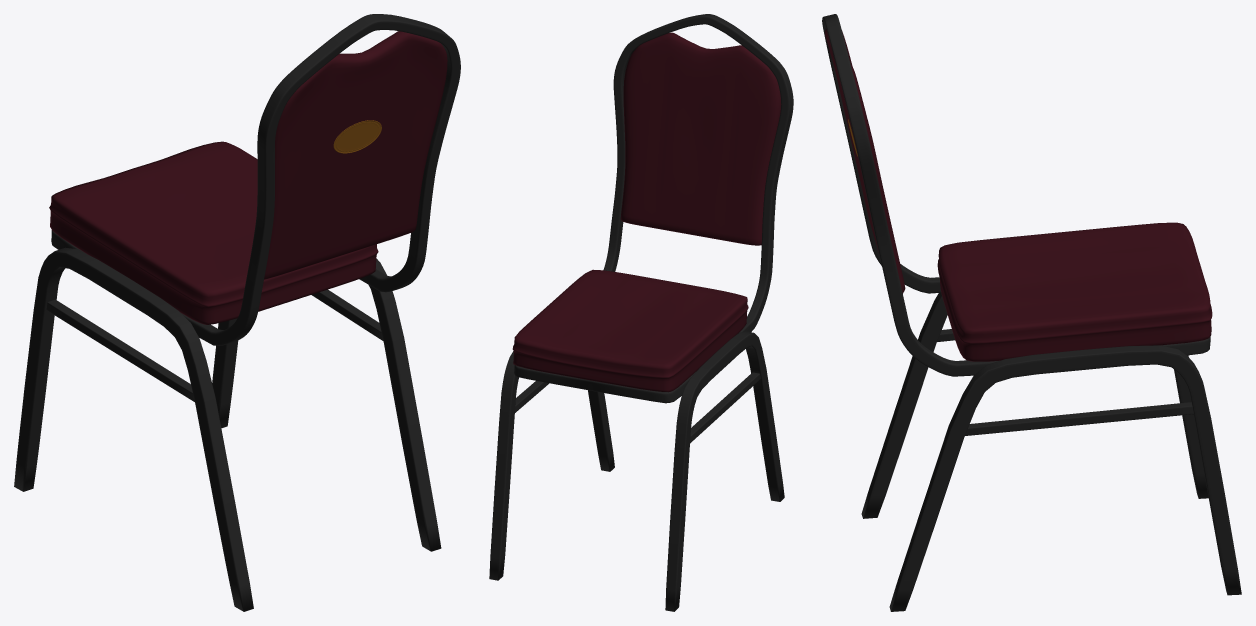
File: kursi.obj
3 renders of one model, left to right at view 1: azimuth 30°, elevation 25°; view 2: azimuth 150°, elevation 25°; view 3: azimuth 270°, elevation 25°, orthographic. The views are drawn at different scales.
Parts seen in each view (by area): view 1: Cube_Cube.001, Cube.002_Cube.003, Cube.001_Cube.002, Circle; view 2: Cube.002_Cube.003, Cube_Cube.001, Cube.001_Cube.002; view 3: Cube.001_Cube.002, Cube_Cube.001, Cube.002_Cube.003.
Boxes of the visible parts, x1,y1,x2,y2 form: Cube_Cube.001: (14,14,460,611); Cube.002_Cube.003: (264,31,447,279); Cube.001_Cube.002: (49,141,378,324); Circle: (333,120,381,153); Cube.002_Cube.003: (620,32,781,245); Cube_Cube.001: (489,14,793,611); Cube.001_Cube.002: (512,269,748,392); Cube.001_Cube.002: (937,222,1212,361); Cube_Cube.001: (822,14,1241,611); Cube.002_Cube.003: (825,29,905,293).
Size of the model in its own units: 3.41 by 7.26 by 5.06.
